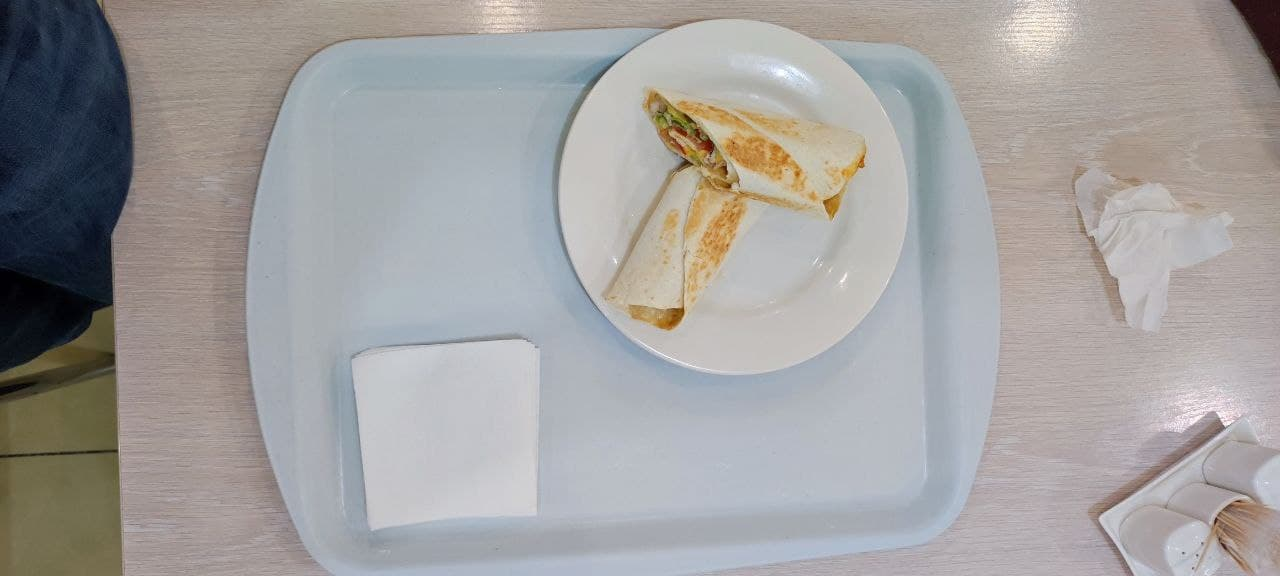Кесадилья с курицей: (600, 89, 869, 332)
Поднос: (245, 31, 1003, 576)
Салфетки: (354, 342, 540, 530)
Тарелка: (556, 20, 908, 380)
